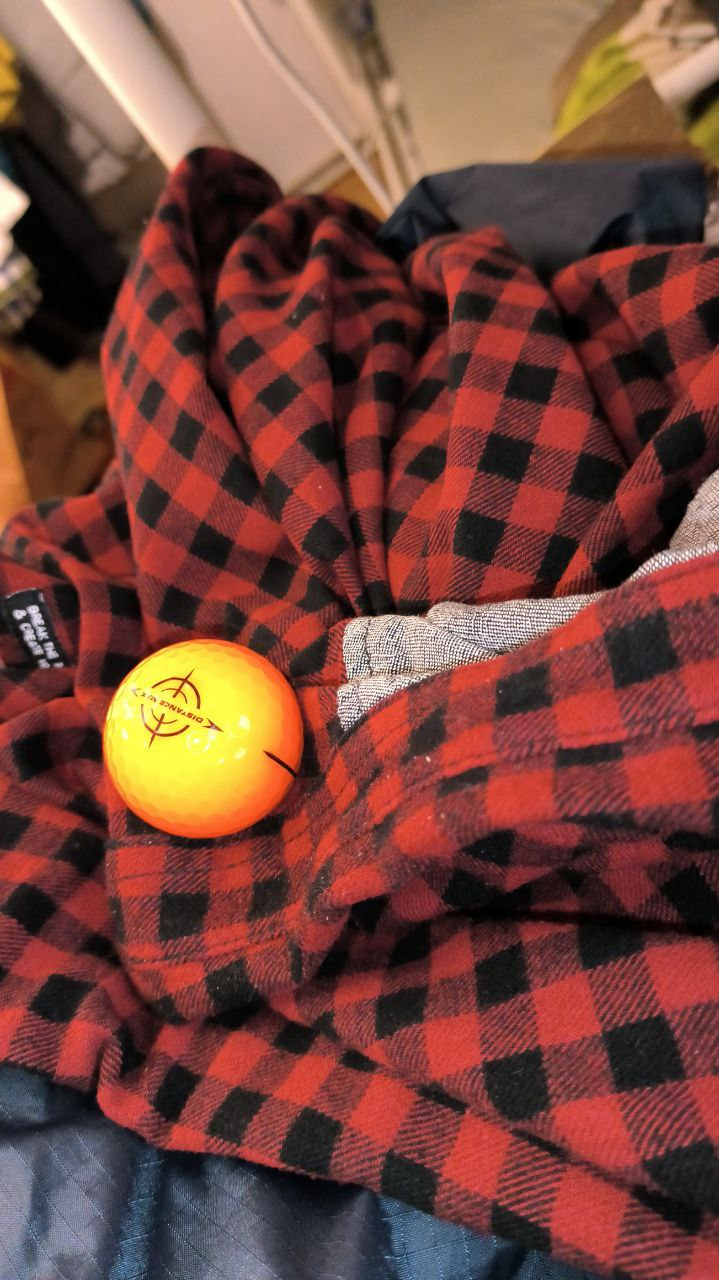orange_ball: (102, 636, 303, 840)
